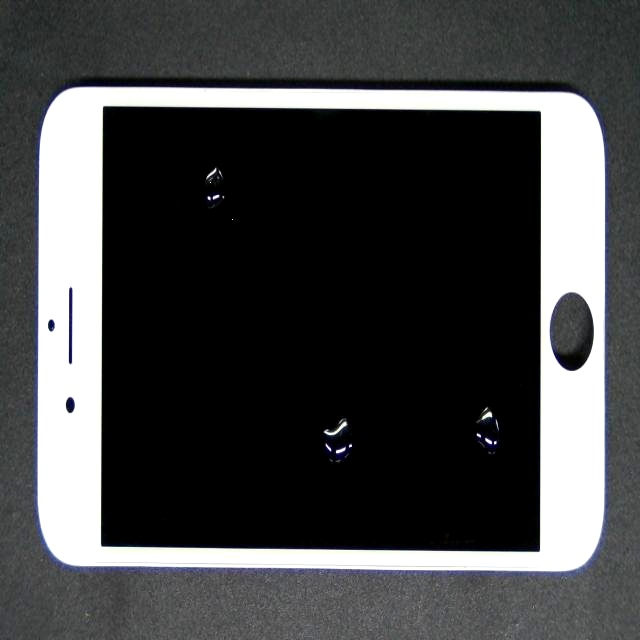oil: (227, 187, 640, 640), (151, 179, 482, 640), (91, 83, 307, 308)
